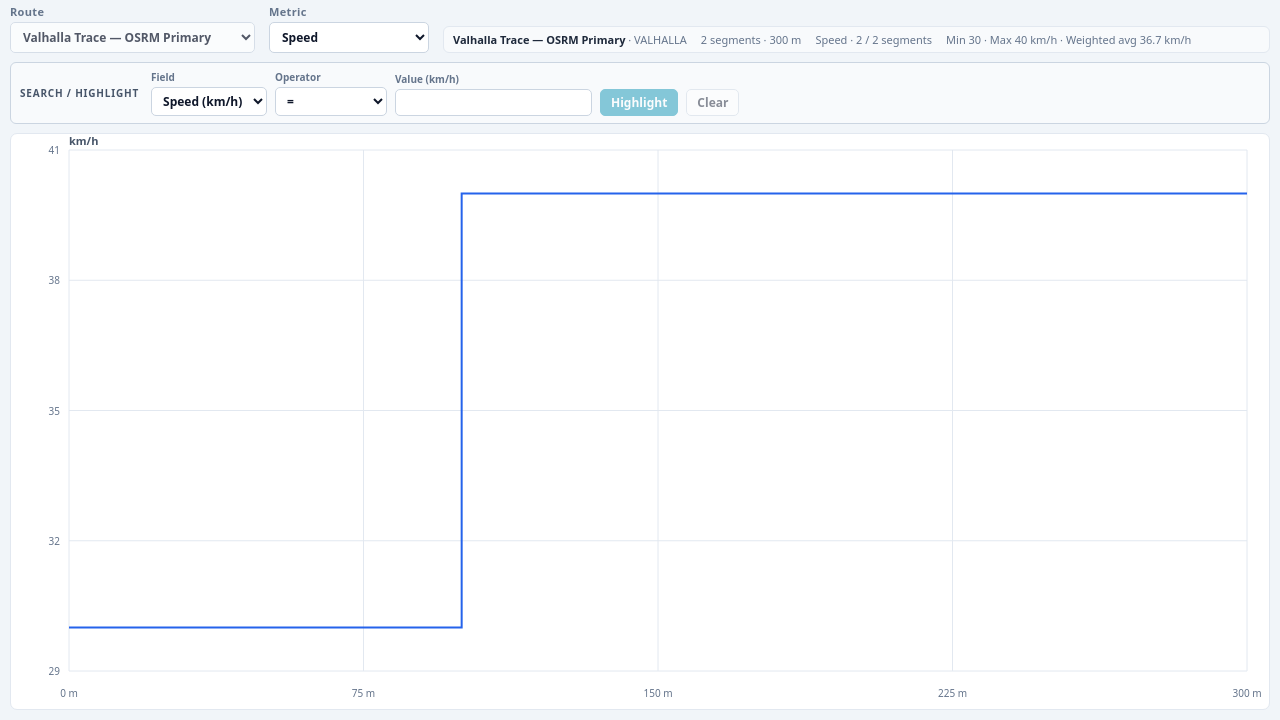
Test case: Trace Route Analysis › supports partial changed-geometry traces and trace-distance search statistics
Select "Density" in the dropdown named "Trace search field" at [209, 102], box [151, 87, 267, 116]
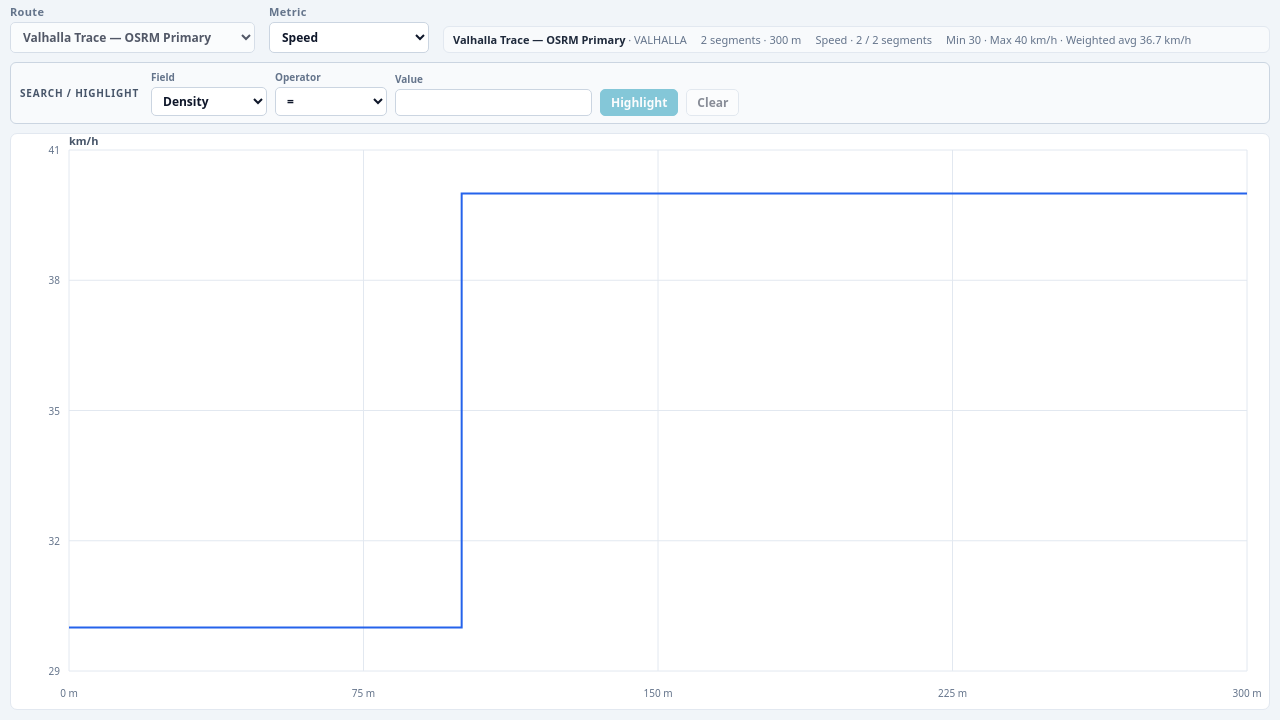
Type "15" into the number field named "Trace search value" at [494, 102], box [395, 89, 592, 116]
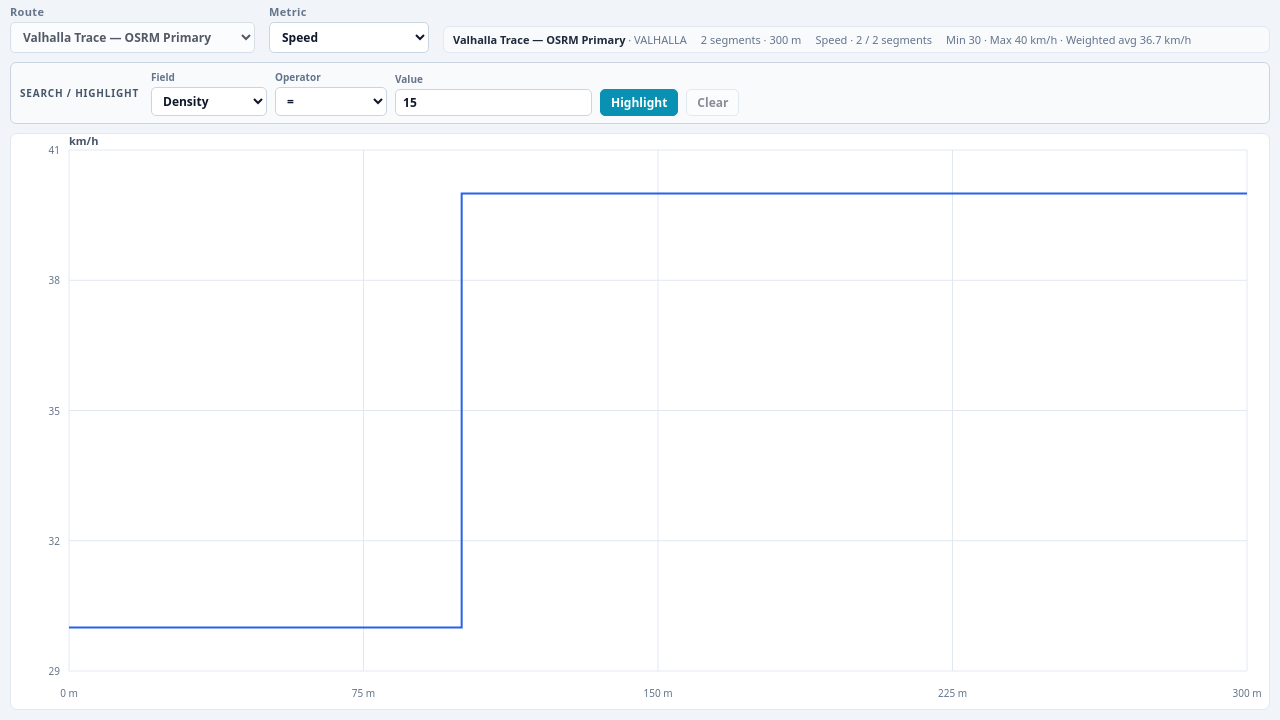
Click the button "Highlight" at [639, 102], box [600, 89, 678, 116]
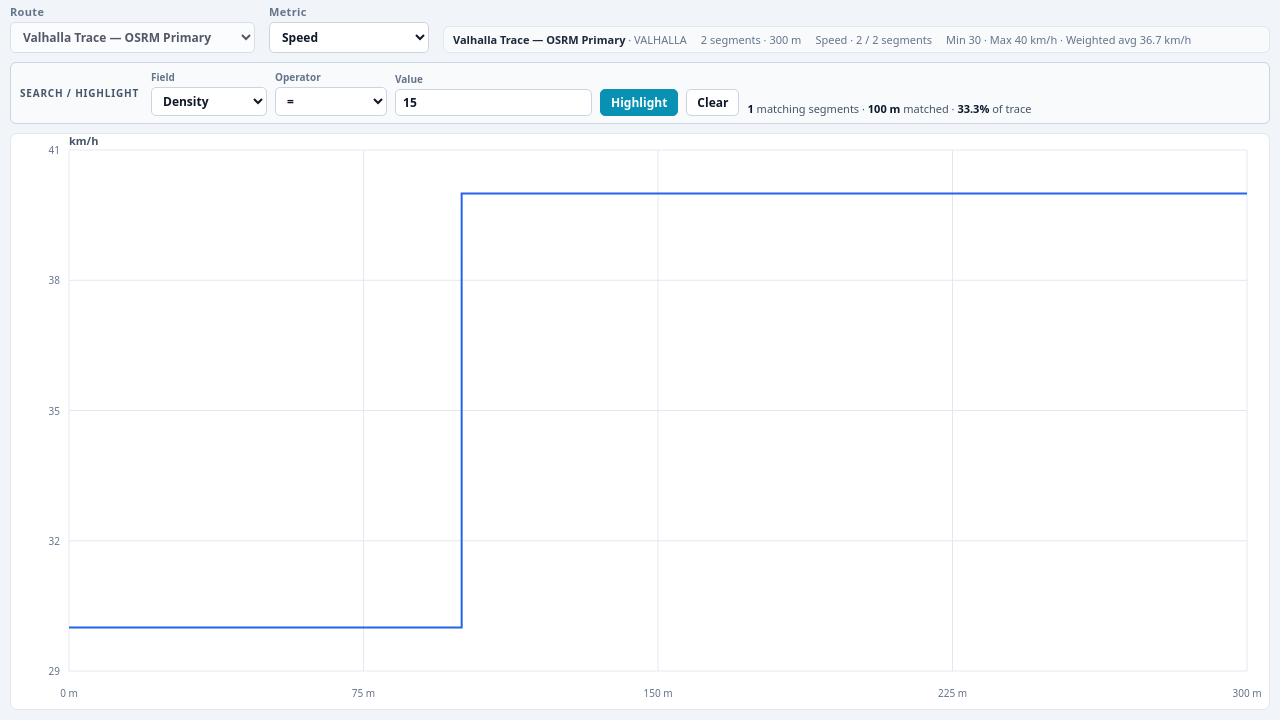
Result: the element named "Trace match statistics" shows "1 matching segments" at [748, 101, 1032, 116]
Result: the element named "Trace match statistics" shows "100 m matched" at [748, 101, 1032, 116]
Result: the element named "Trace match statistics" shows "33.3% of trace" at [748, 101, 1032, 116]
